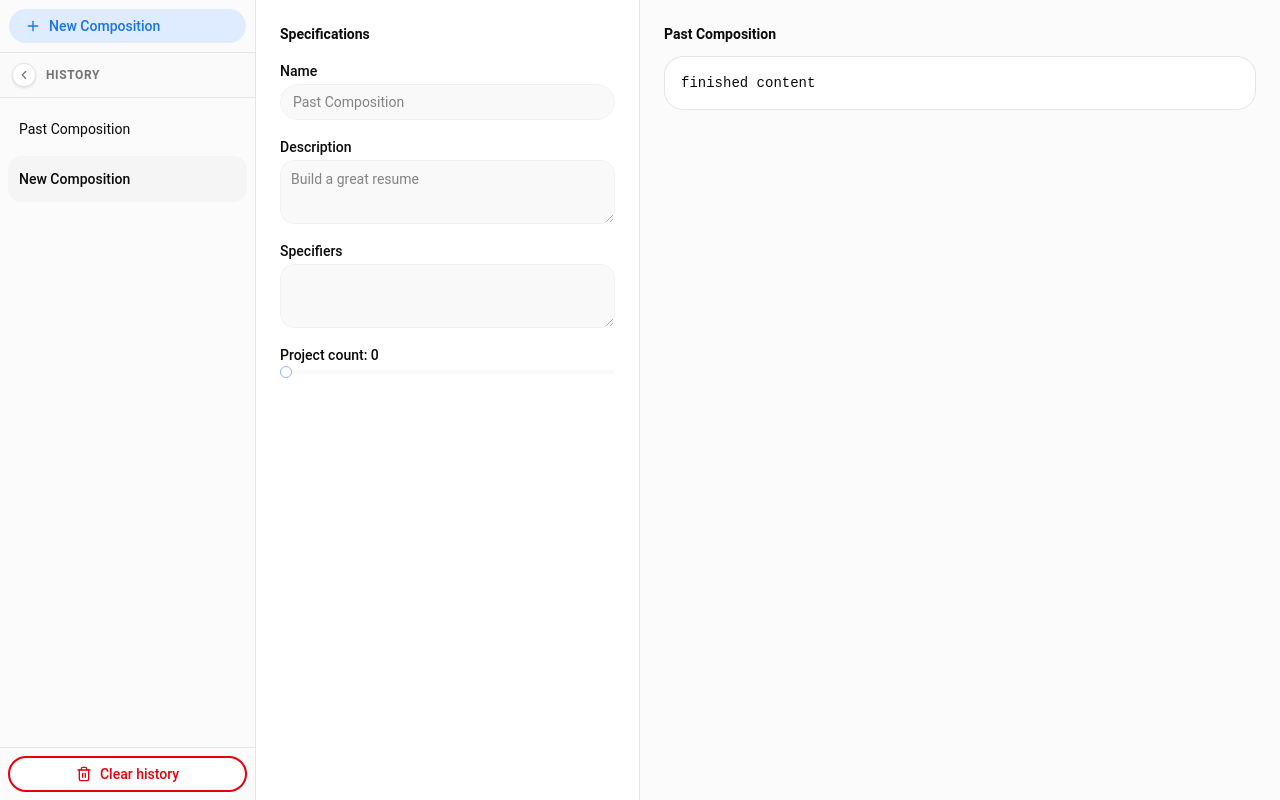
Scenario: the pending entry does not come back after its bridged result is later removed from history
The width and height of the screenshot is (1280, 800).
Check: the button "Past Composition" is shown, box [19,119,174,139]
Check: the number of elements with test id "history-entry" is 2, box [19,119,174,139]; [8,156,247,202]
Click the button "Clear history" at (128, 774), box [8,756,247,792]
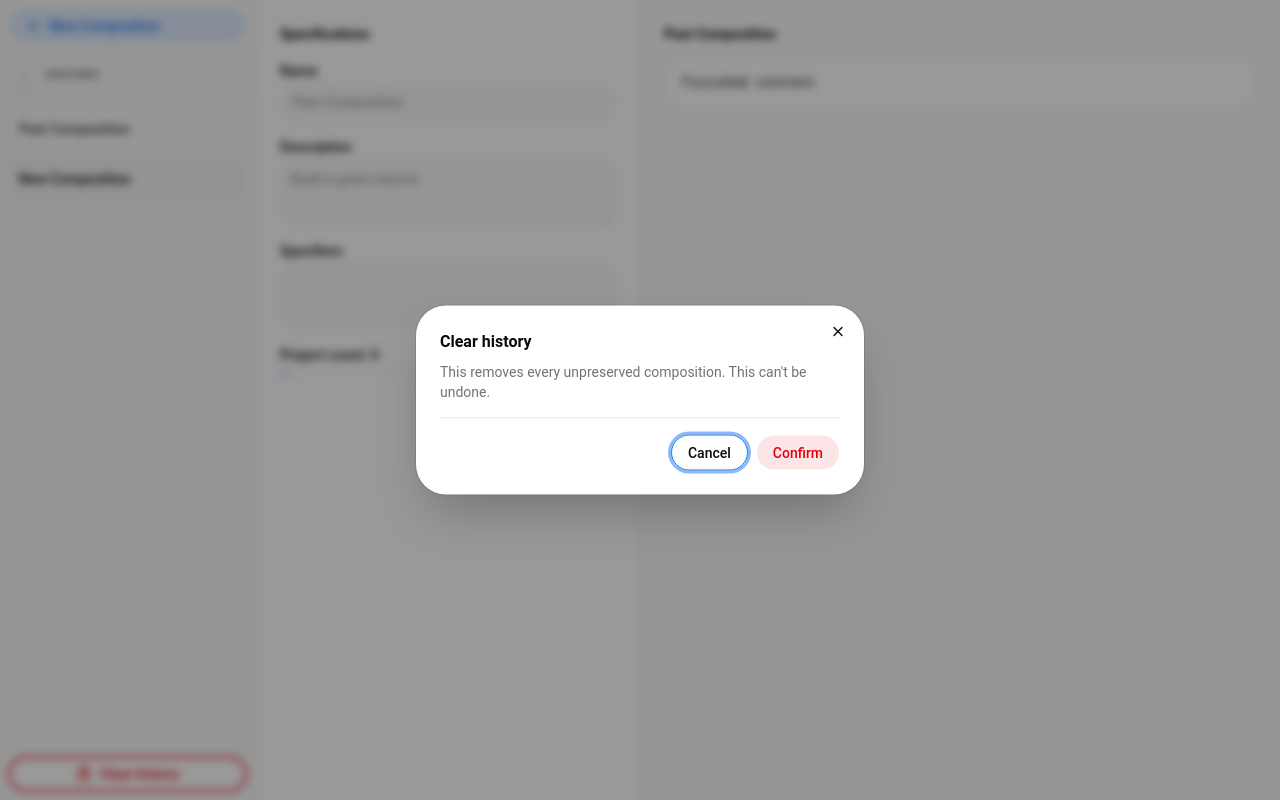
Click the button "Confirm" at (798, 452), box [756,434,840,470]
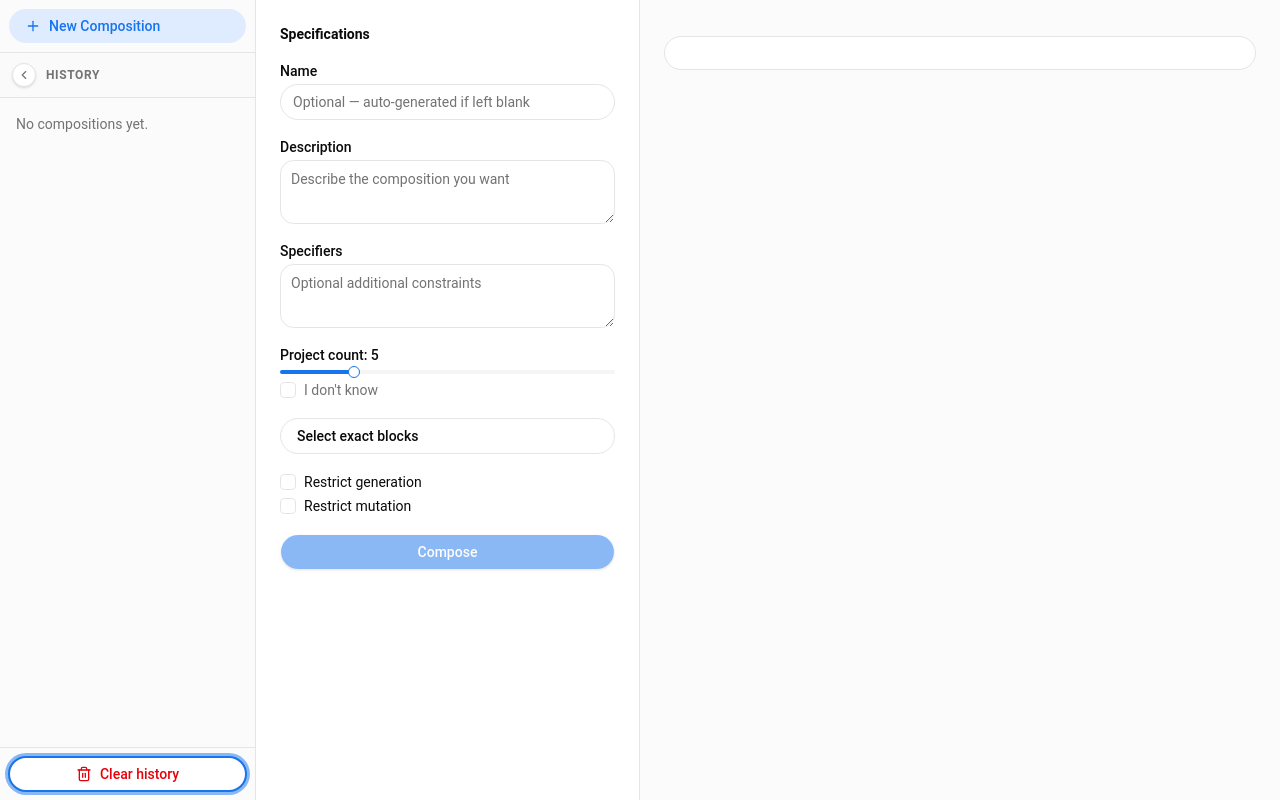
Check: no elements with test id "history-entry" are shown
